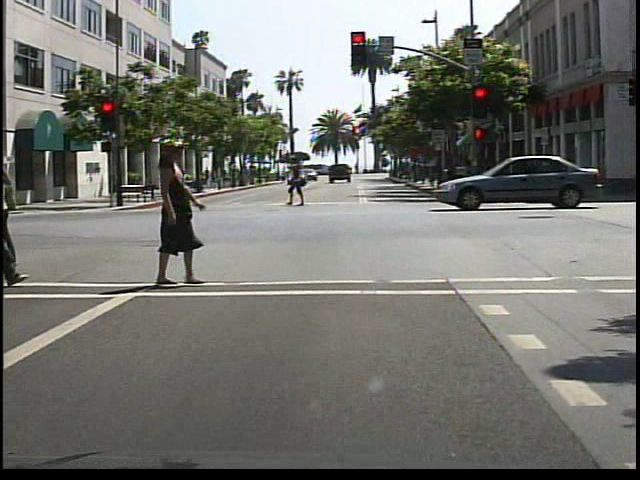person: (142, 136, 218, 285), (4, 163, 28, 272), (1, 144, 16, 293), (286, 158, 315, 208), (174, 164, 188, 189)
